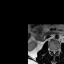CCS_normal: (53, 47, 55, 55)
LFS_normal: (56, 47, 58, 52)
LLS_normal: (55, 47, 56, 53)
RFS_stenosis: (50, 47, 51, 52)
RLS_normal: (51, 47, 53, 53)
